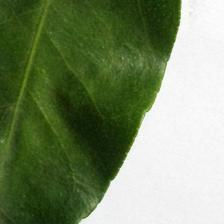healthy: (1, 1, 184, 224)
